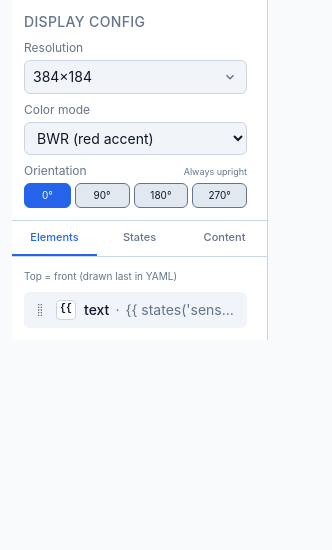
Test: Variables editor under host-fed states › offers adding a variable, and still shows one the payload does not reference
The width and height of the screenshot is (332, 550).
Click the button "States": (140, 238) [97, 221, 182, 256]
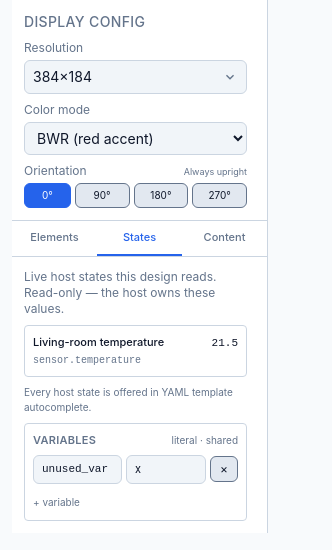
Now the button with aria-label "Add variable" is shown, box [33, 495, 80, 510]
Now the field named "Value for variable unused_var" is shown, box [126, 454, 206, 484]
